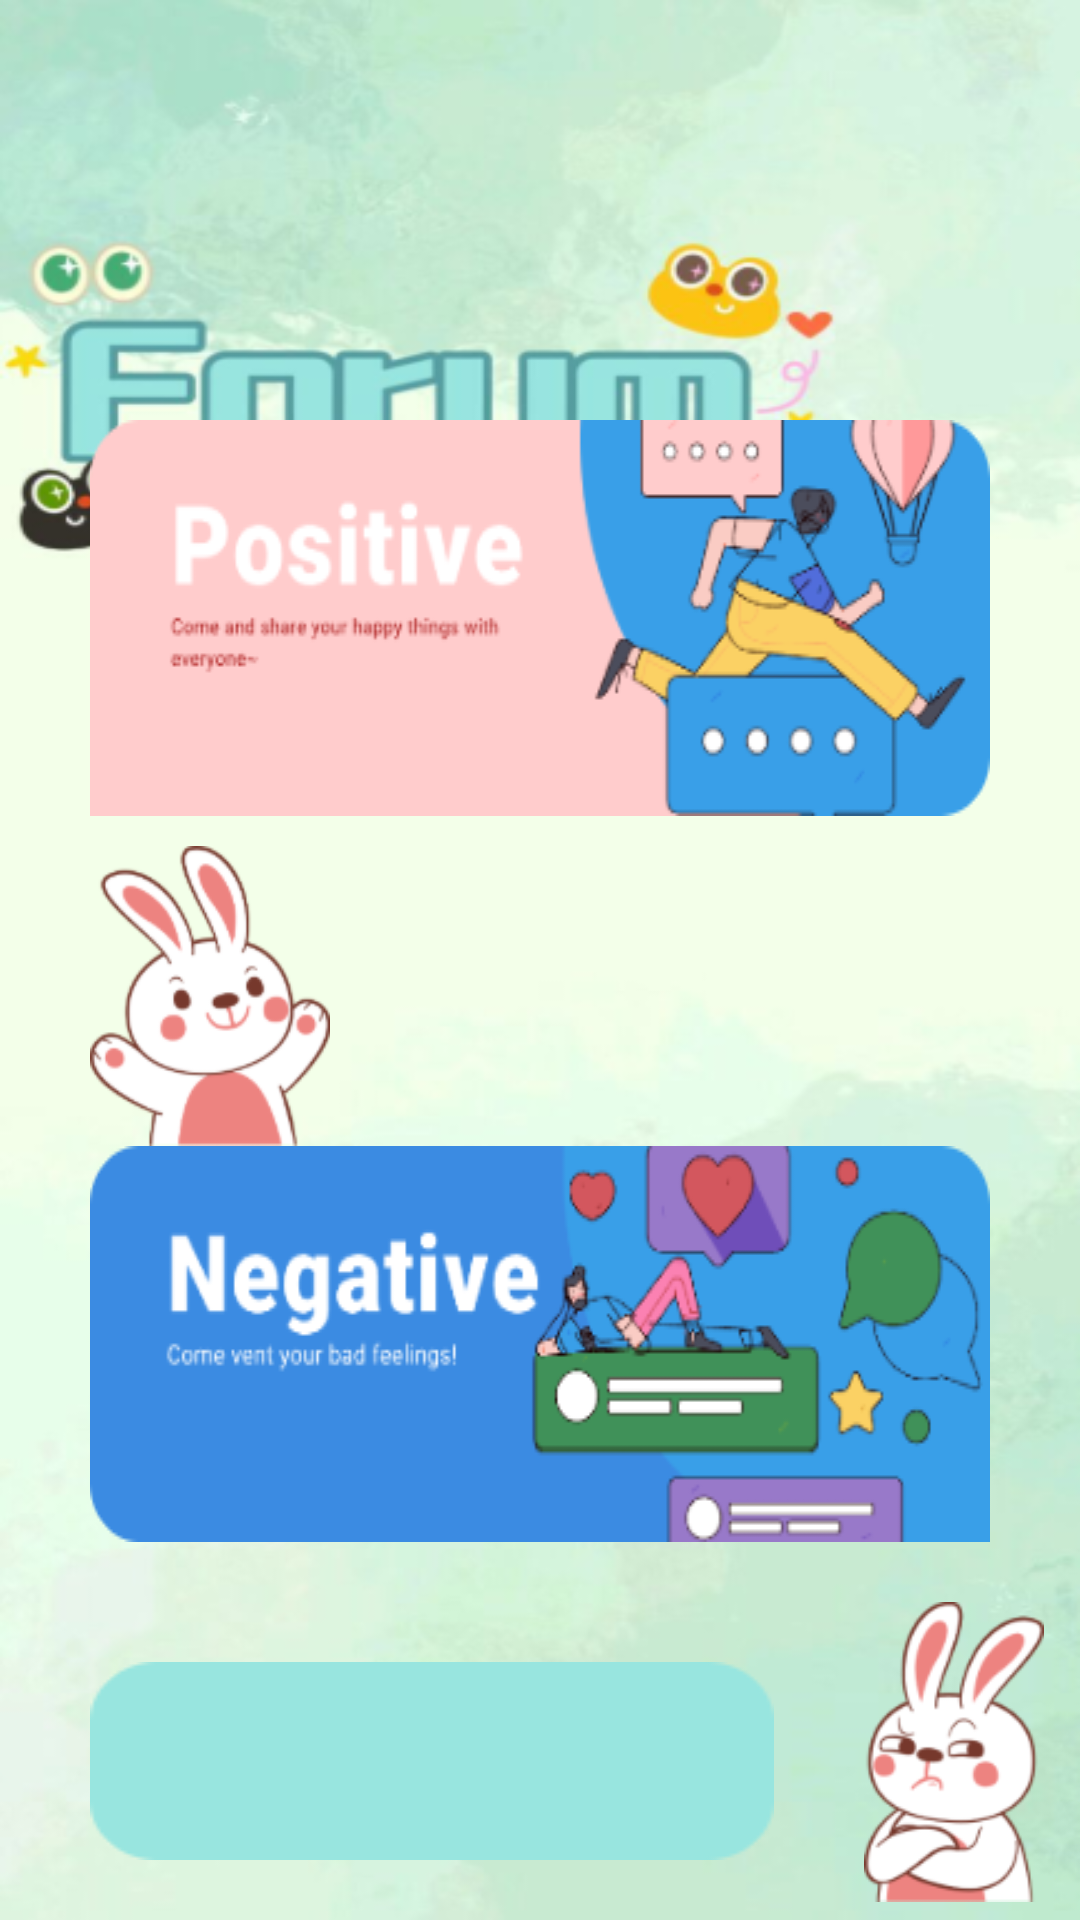

Where to tap for icons on this 1080 × 1920 app screen, as point (x, y):
emotion forum rabbit happy: point (210, 996)
emotion forum rabbit sad: point (954, 1752)
